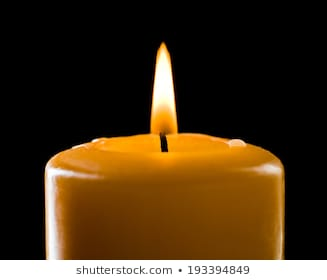Fire: (149, 43, 181, 139)
